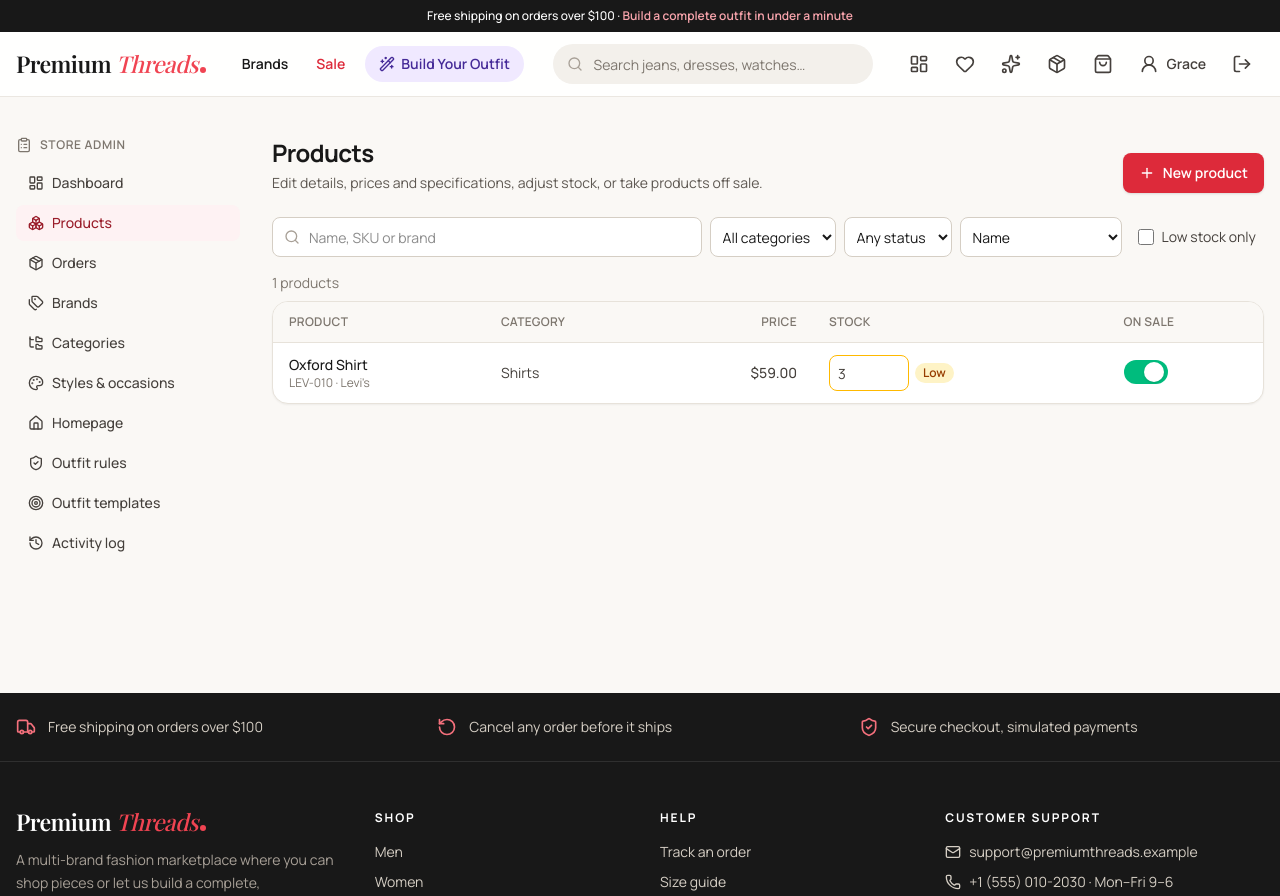
Test: admin area › adjusts stock and takes products off sale from the list
Expected: the text "Low" is shown, 915,363 -> 954,383
Clear the number field named "Stock for Oxford Shirt" at (869, 373), box 829,355 -> 909,391
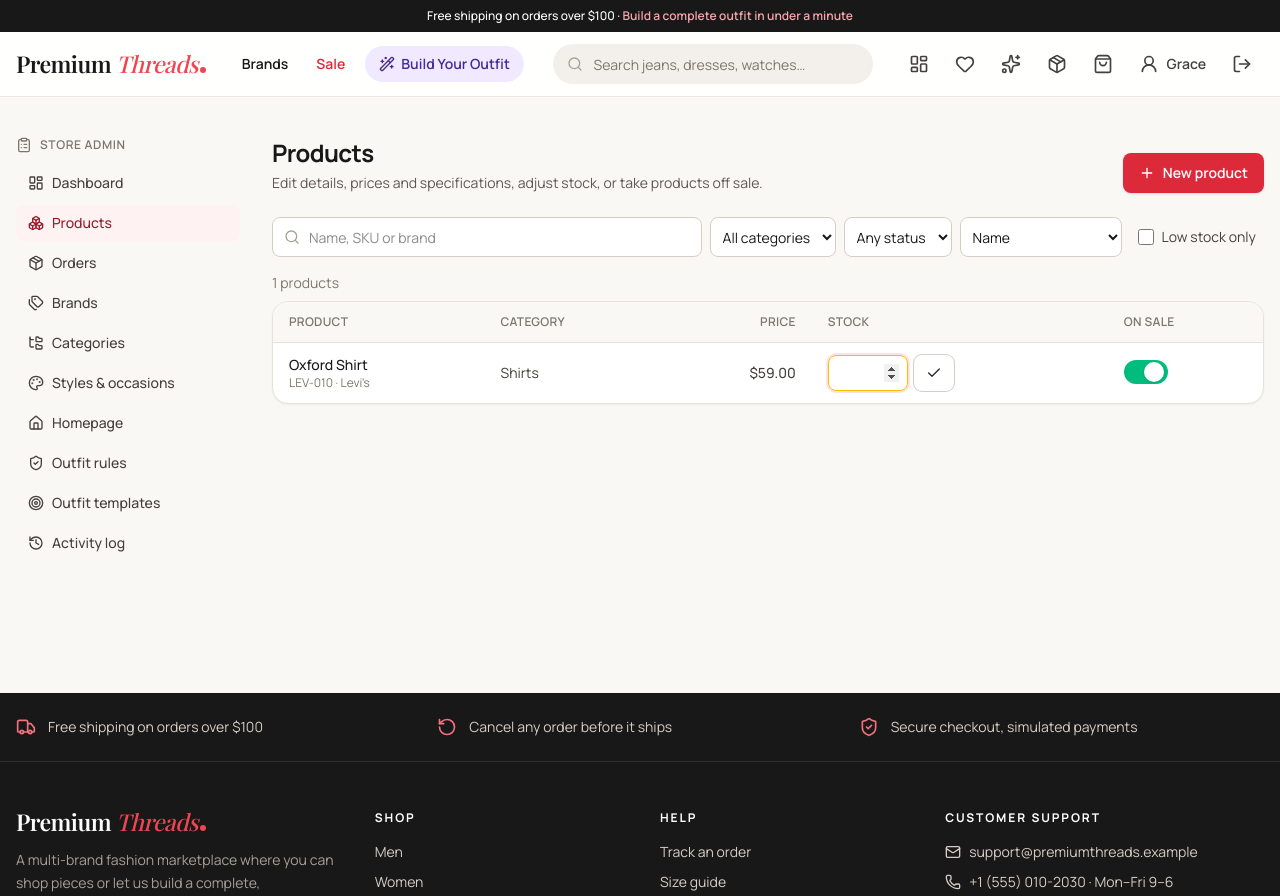
Type "40" into the number field named "Stock for Oxford Shirt" at (868, 373), box 828,355 -> 908,391
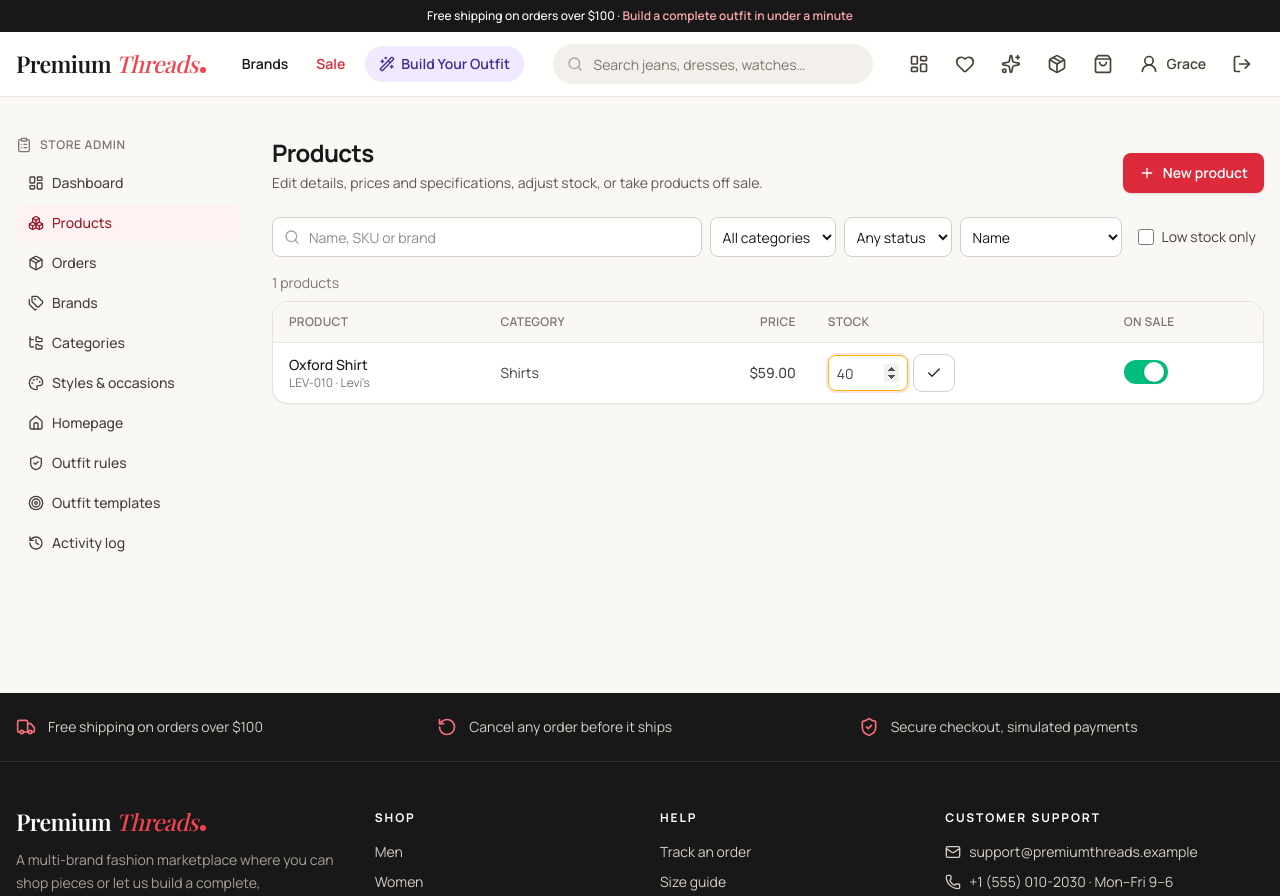
Click the button named "Save stock for Oxford Shirt" at (934, 373), box 914,355 -> 954,391
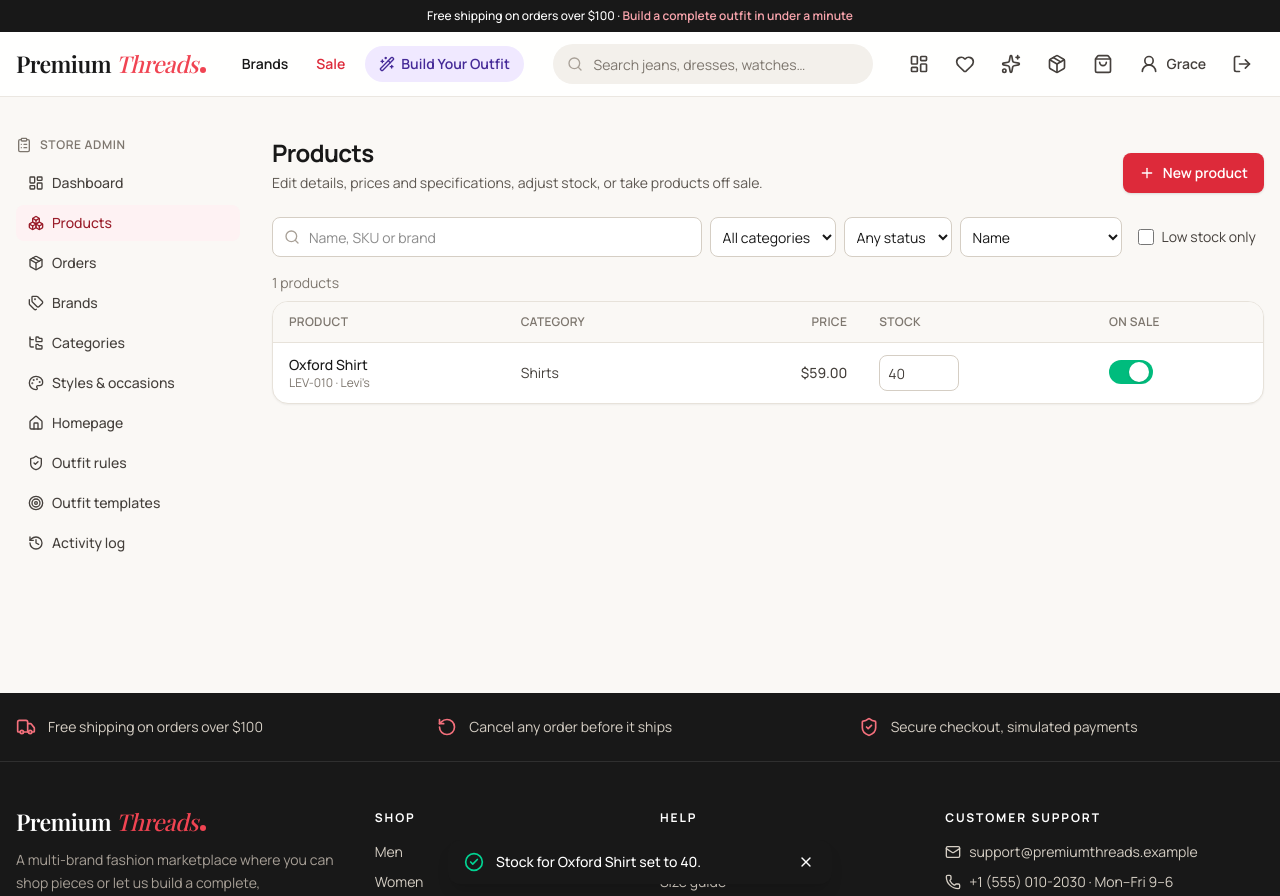
Expected: the text "Stock for Oxford Shirt set to 40." is shown, 496,852 -> 701,871
Click the switch named "Oxford Shirt on sale" at (1131, 372), box 1109,360 -> 1153,384
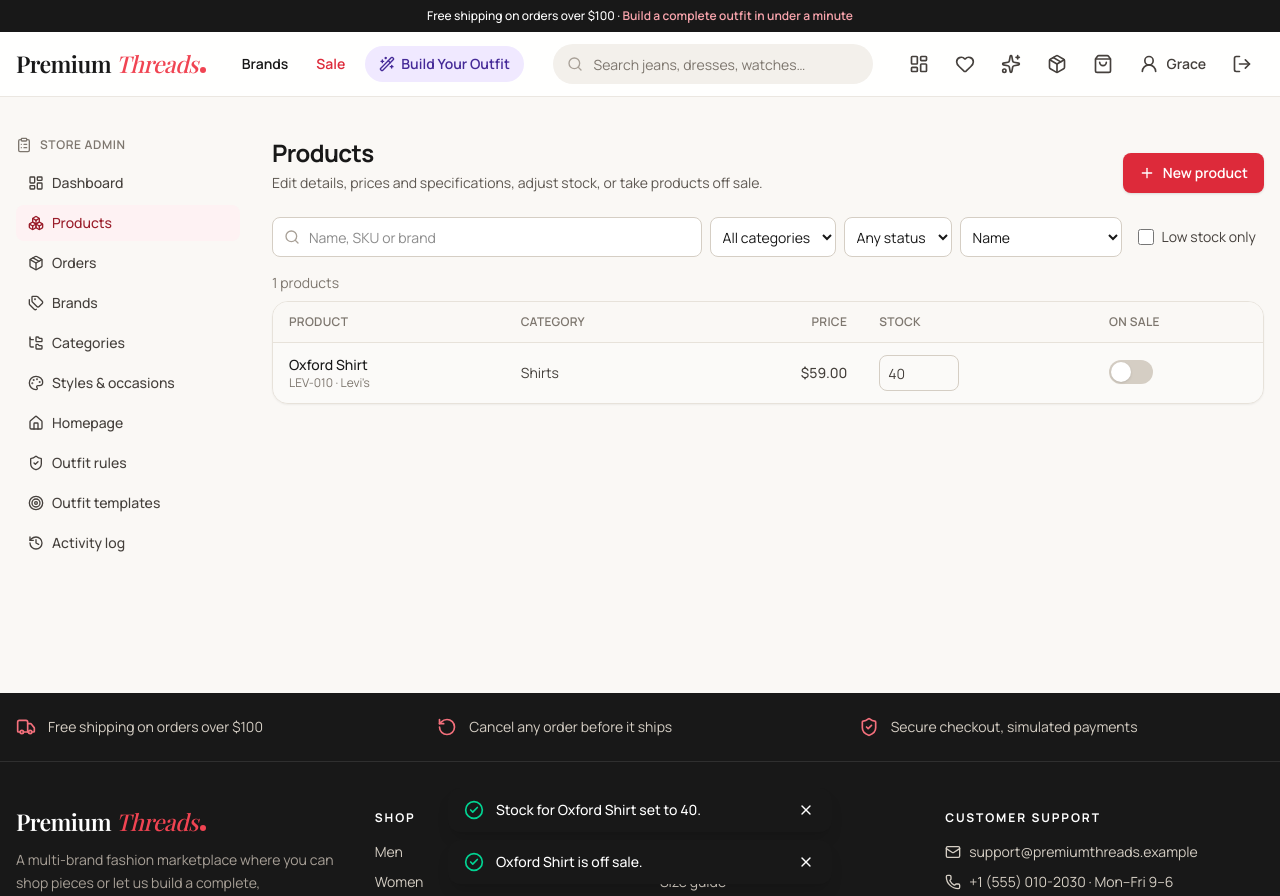
Expected: the text "Oxford Shirt is off sale." is shown, 496,852 -> 642,871
